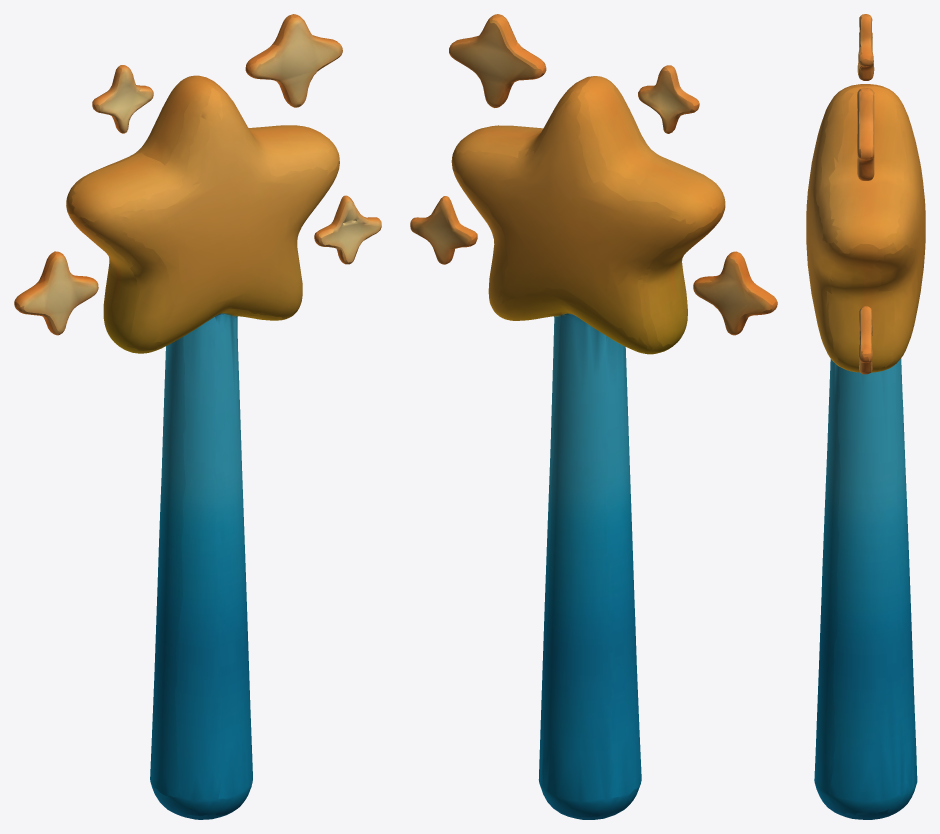
Rendered from i_remix.glb.
The picture shows the model from 3 angles, left to right: view 1: azimuth 30°, elevation 25°; view 2: azimuth 150°, elevation 25°; view 3: azimuth 270°, elevation 25°; orthographic projection.
Parts seen in each view (by area): view 1: geometry_0; view 2: geometry_0; view 3: geometry_0.
Boxes of the visible parts, <box> form: geometry_0: <box>14,14,381,819</box>; geometry_0: <box>410,14,777,819</box>; geometry_0: <box>806,14,925,819</box>.
Size of the model in its own units: 0.25 by 0.5073 by 0.0715.
Materials: 1 (1 with a texture image).
